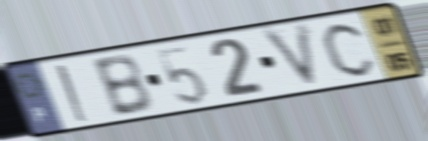2: (209, 36, 268, 101)
5: (153, 42, 211, 106)
B: (89, 52, 155, 120)
C: (320, 20, 380, 79)
I: (52, 61, 93, 125)
V: (257, 19, 323, 93)
